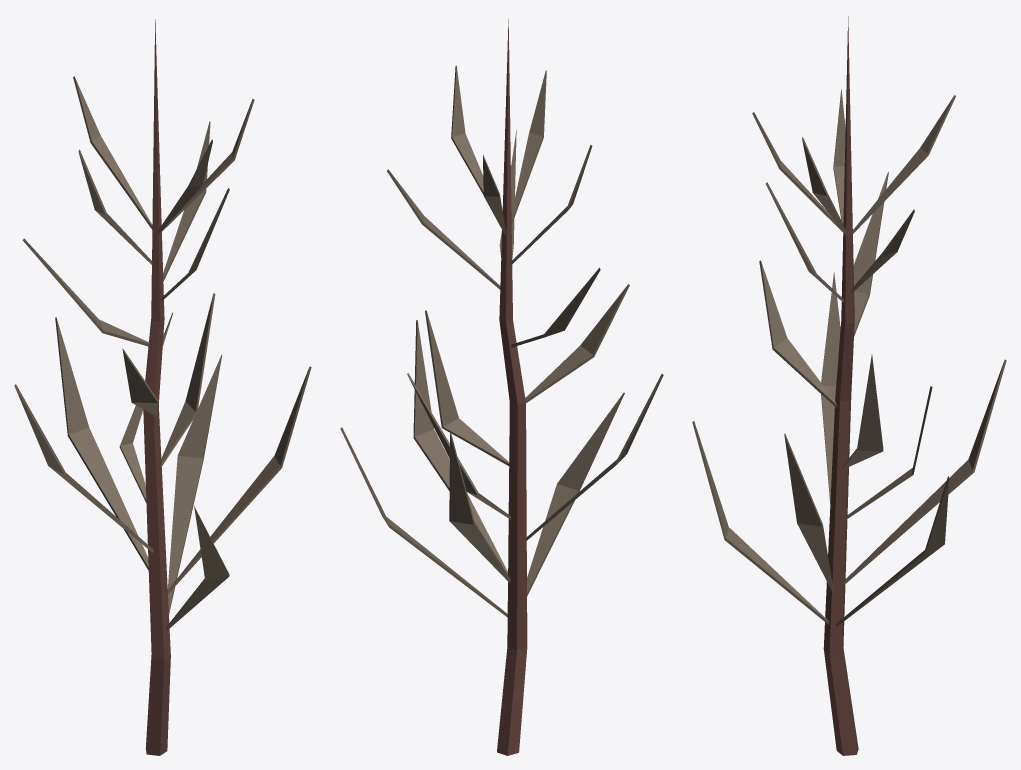
Rendered from plants.fbx.
3 renders of one model, left to right at view 1: azimuth 30°, elevation 25°; view 2: azimuth 150°, elevation 25°; view 3: azimuth 270°, elevation 25°, orthographic.
Visible parts, largest first — view 1: plants; view 2: plants; view 3: plants.
Part boxes in pixels (box(x1,y1,x2,y2)): plants: box(14, 19, 311, 755); plants: box(340, 19, 663, 755); plants: box(692, 16, 1006, 755).
Bounding box in the file's own units: 0.6859 × 1.77 × 0.6859.
